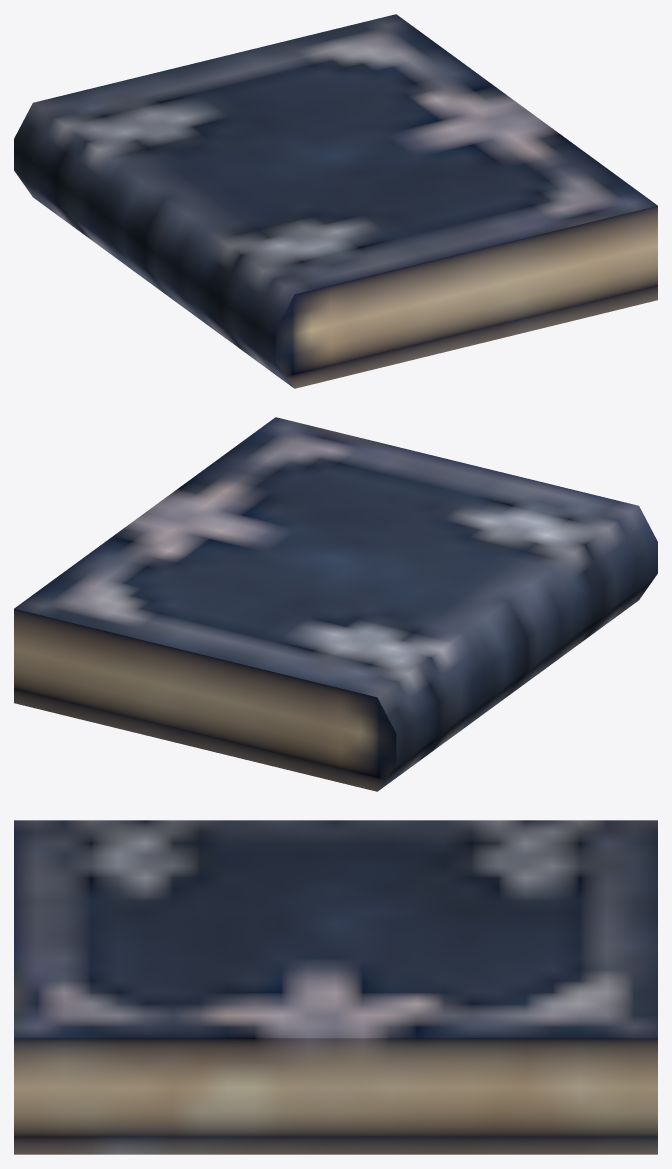
Rendered from etc_prop_7.FBX.
The picture shows the model from 3 angles, top to bottom: view 1: azimuth 30°, elevation 25°; view 2: azimuth 150°, elevation 25°; view 3: azimuth 270°, elevation 25°; orthographic projection. The views are drawn at different scales.
Parts seen in each view (by area): view 1: etc_prop_7; view 2: etc_prop_7; view 3: etc_prop_7.
Boxes of the visible parts, x1,y1,x2,y2 form: etc_prop_7: (14, 14, 657, 388); etc_prop_7: (14, 417, 657, 791); etc_prop_7: (14, 820, 657, 1154).
Size of the model in its own units: 14.31 by 3.38 by 16.97.
